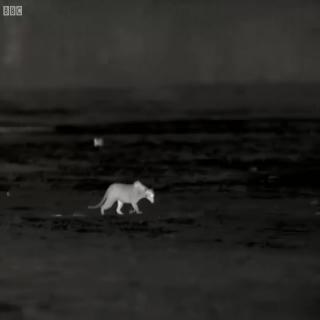Leopard: (86, 171, 174, 222)
